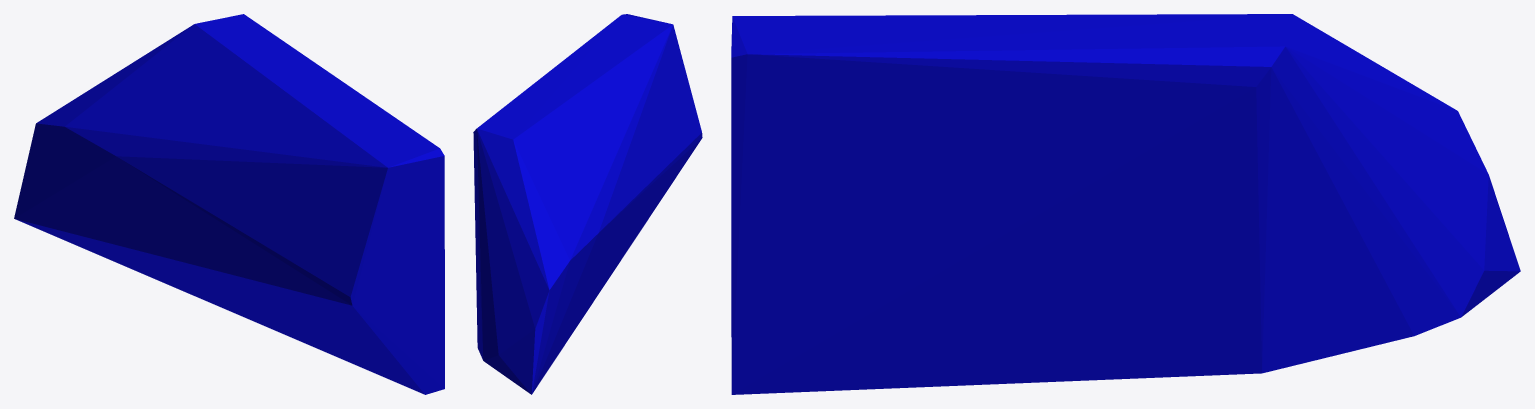
Rendered from shoulder-roll-housing-mirror_convex_piece_004.obj.
3 renders of one model, left to right at view 1: azimuth 30°, elevation 25°; view 2: azimuth 150°, elevation 25°; view 3: azimuth 270°, elevation 25°, orthographic. The views are drawn at different scales.
Bounding box in the file's own units: 0.0288 × 0.0413 × 0.0859.
